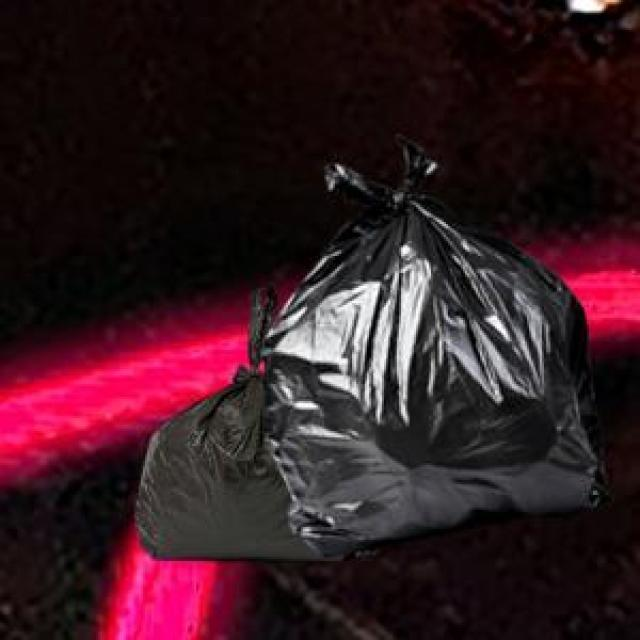Vinyl: (136, 142, 601, 559)
